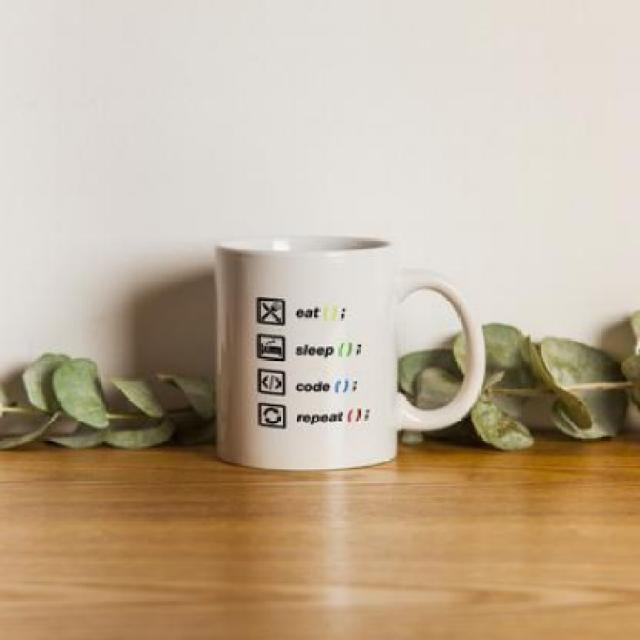taza: (212, 237, 488, 473)
